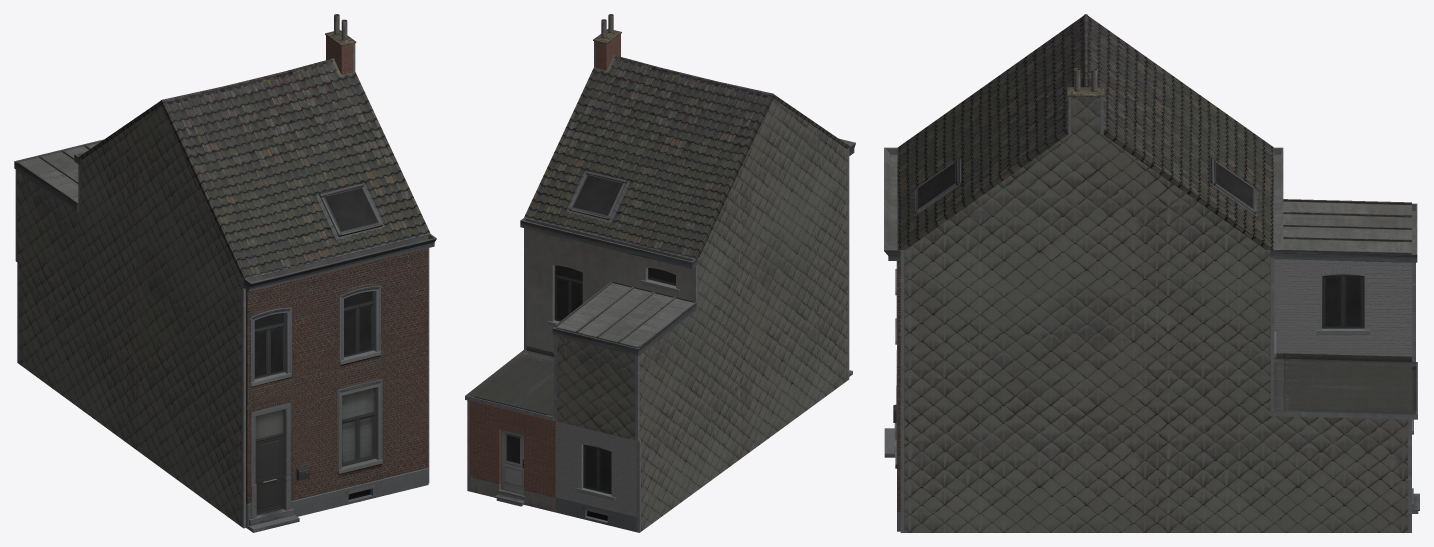
The model's file is nivelles_16.fbx.
The picture shows the model from 3 angles, left to right: view 1: azimuth 30°, elevation 25°; view 2: azimuth 150°, elevation 25°; view 3: azimuth 270°, elevation 25°; orthographic projection. The views are drawn at different scales.
Parts seen in each view (by area): view 1: nivelles 16; view 2: nivelles 16; view 3: nivelles 16.
Boxes of the visible parts, x1=… form: nivelles 16: x1=14, y1=14, x2=436, y2=532; nivelles 16: x1=465, y1=14, x2=855, y2=532; nivelles 16: x1=884, y1=14, x2=1419, y2=532.
Size of the model in its own units: 621 by 1290 by 1362.
